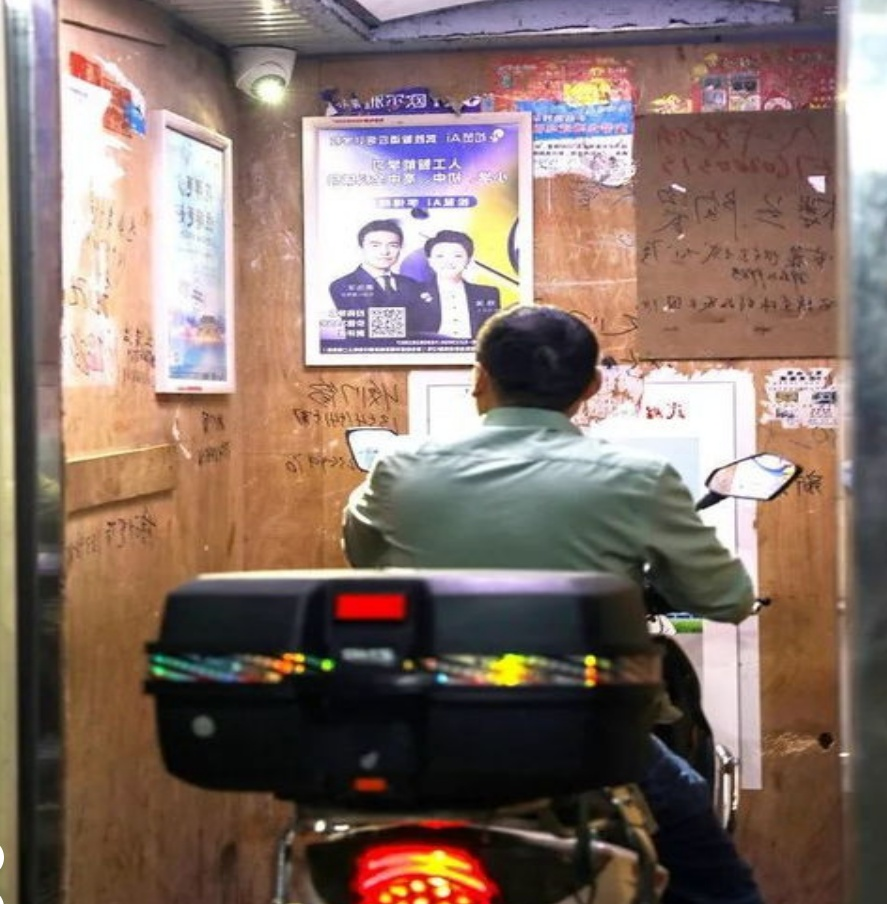ebike: (145, 425, 797, 899)
person: (351, 307, 765, 890)
